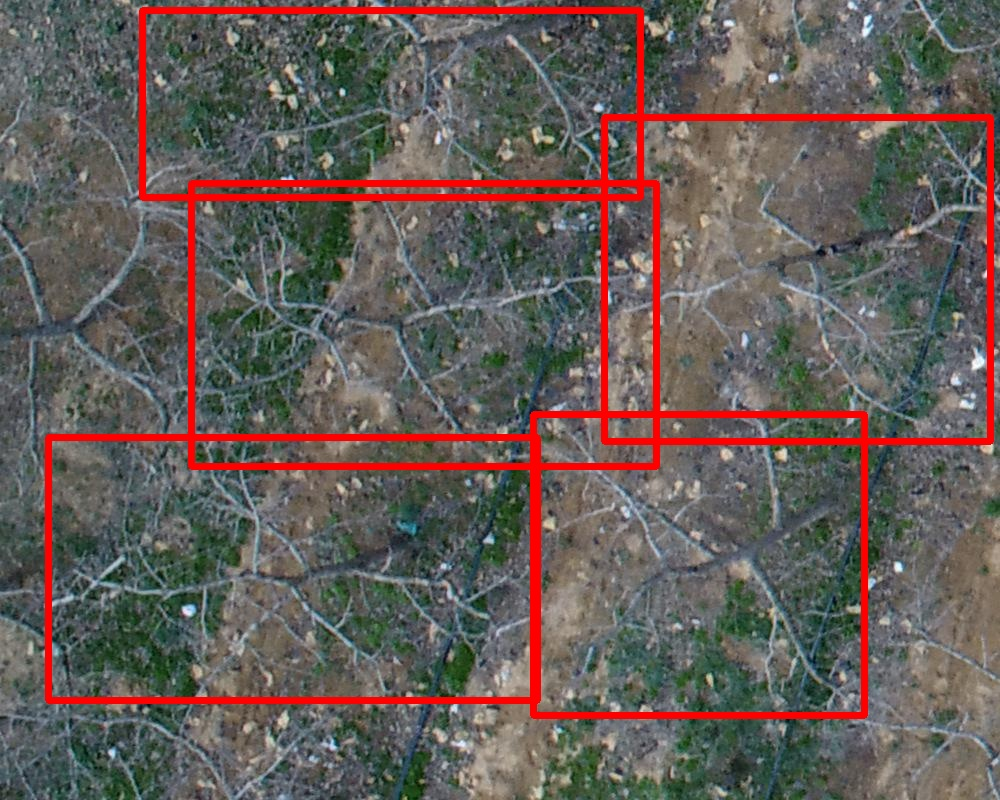apple: (191, 183, 656, 466), (48, 437, 537, 700), (604, 117, 990, 441), (533, 414, 864, 715), (142, 10, 640, 197)
